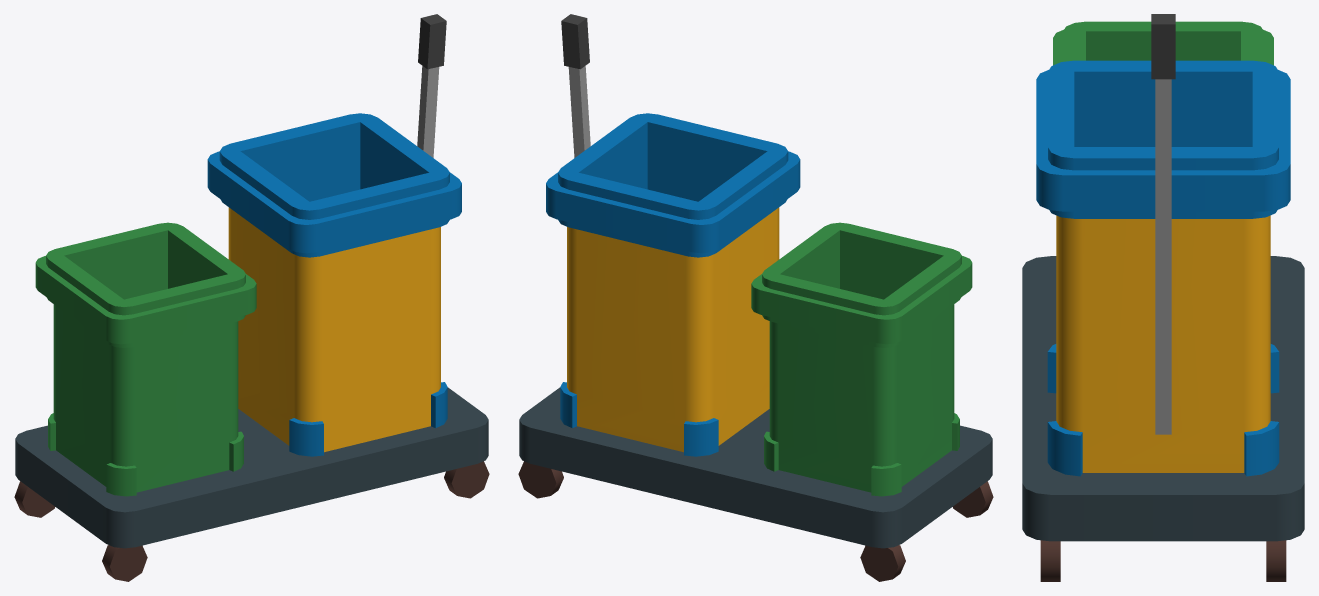
The model's file is Mixed_DustBin_02.fbx.
3 views of the same model, side by side, from view 1: azimuth 30°, elevation 25°; view 2: azimuth 150°, elevation 25°; view 3: azimuth 270°, elevation 25° (orthographic). The views are drawn at different scales.
Parts seen in each view (by area): view 1: Mixed_DustBin_02; view 2: Mixed_DustBin_02; view 3: Mixed_DustBin_02.
Part boxes in pixels (x1,y1,x2,y2): Mixed_DustBin_02: (14, 14, 489, 581); Mixed_DustBin_02: (518, 14, 993, 581); Mixed_DustBin_02: (1022, 14, 1304, 581).
Bounding box in the file's own units: 200 × 222 × 100.
